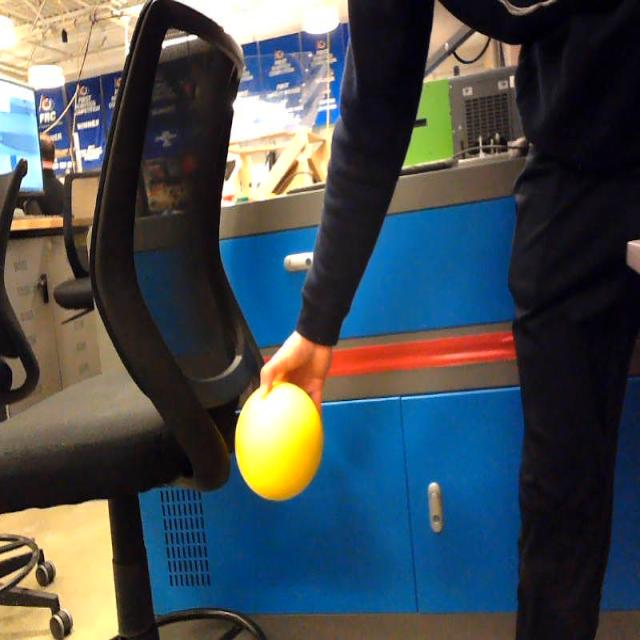Fuel: (235, 381, 324, 501)
